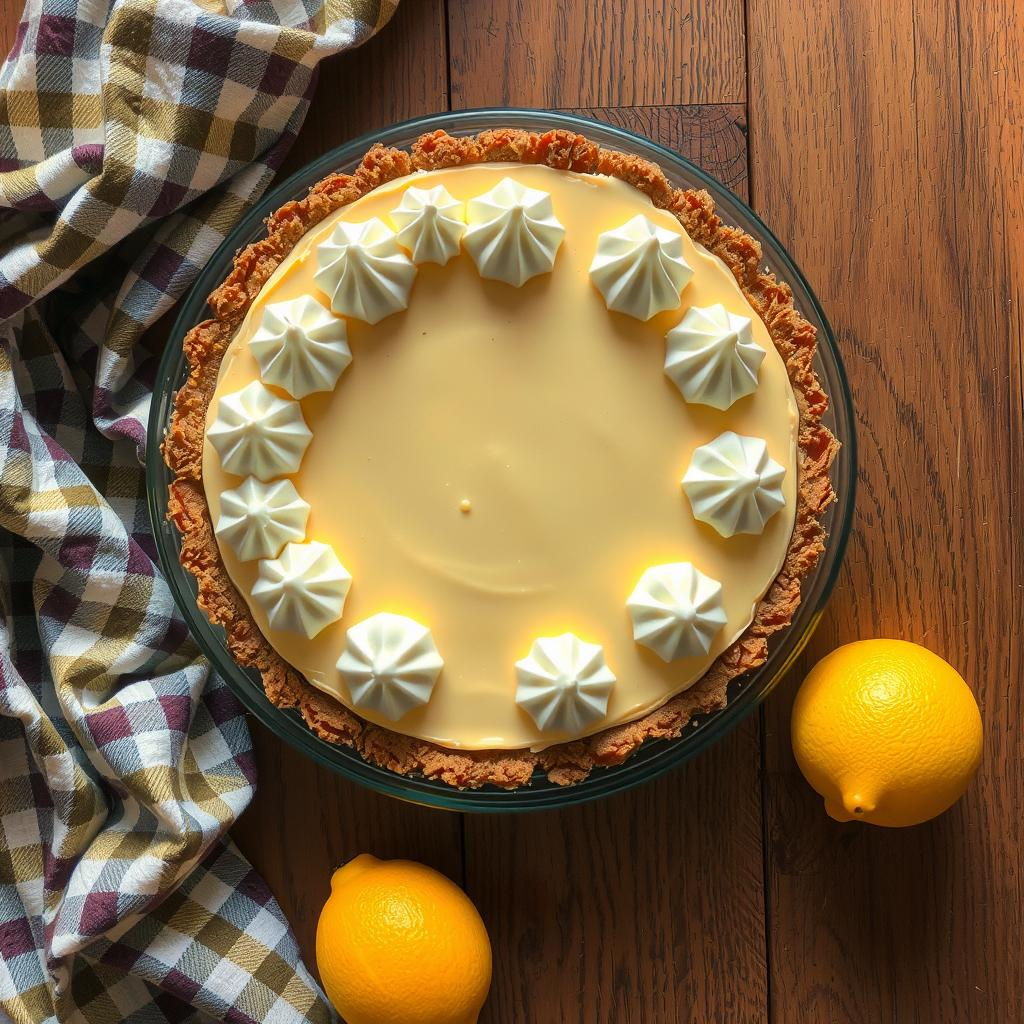pie: (151, 114, 859, 799)
